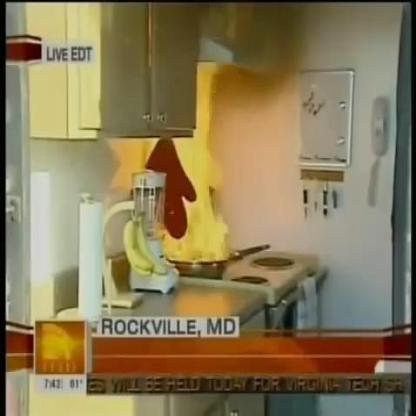fire: (142, 136, 236, 261), (196, 62, 232, 131)
